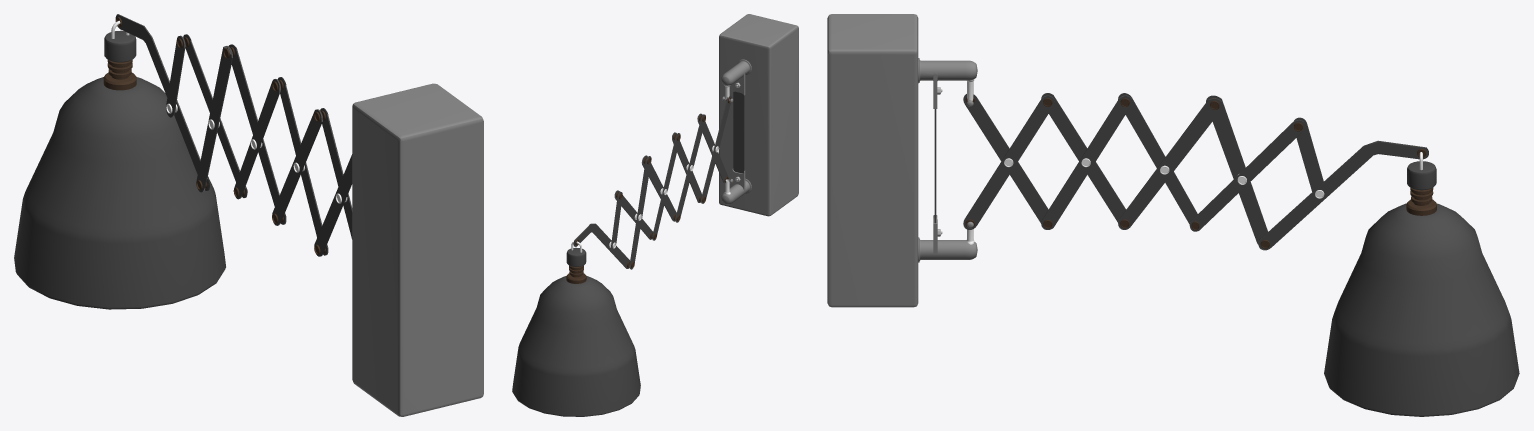
The model's file is light.fbx.
3 views of the same model, side by side, from view 1: azimuth 30°, elevation 25°; view 2: azimuth 150°, elevation 25°; view 3: azimuth 270°, elevation 25° (orthographic). The views are drawn at different scales.
Visible parts, largest first — view 1: pCube1, pCylinder19, PantografiaModificada, polySurface141, polySurface140; view 2: pCylinder19, pCube1, PantografiaModificada, polySurface137, polySurface136, polySurface135, polySurface141, polySurface140; view 3: pCylinder19, pCube1, PantografiaModificada, polySurface136, polySurface135, polySurface141, polySurface140.
Boxes of the visible parts, x1,y1,x2,y2 form: pCube1: [352, 83, 483, 416]; pCylinder19: [14, 77, 225, 309]; PantografiaModificada: [115, 14, 352, 256]; polySurface141: [104, 30, 136, 62]; polySurface140: [103, 60, 136, 90]; pCylinder19: [512, 276, 640, 416]; pCube1: [719, 14, 798, 216]; PantografiaModificada: [573, 95, 731, 269]; polySurface137: [733, 91, 744, 173]; polySurface136: [721, 59, 751, 95]; polySurface135: [721, 168, 751, 204]; polySurface141: [566, 247, 586, 266]; polySurface140: [566, 265, 586, 283]; pCylinder19: [1324, 203, 1519, 416]; pCube1: [827, 14, 918, 307]; PantografiaModificada: [963, 93, 1428, 250]; polySurface136: [918, 58, 977, 108]; polySurface135: [918, 215, 977, 262]; polySurface141: [1407, 161, 1436, 190]; polySurface140: [1406, 188, 1436, 215].
Bounding box in the file's own units: 2.28 × 4.47 × 8.05.
